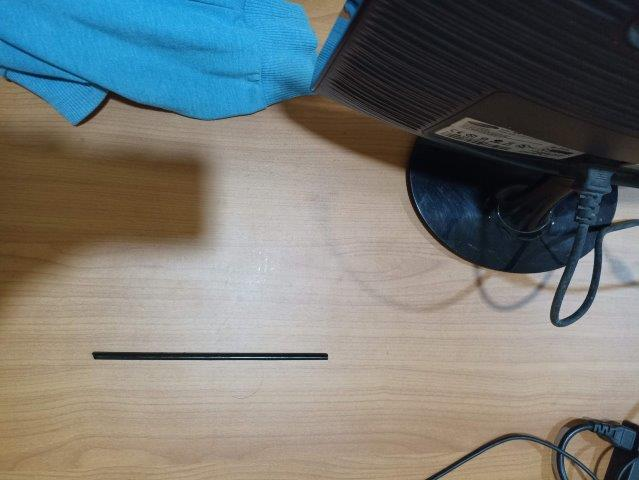sedotan: (92, 352, 328, 360)
